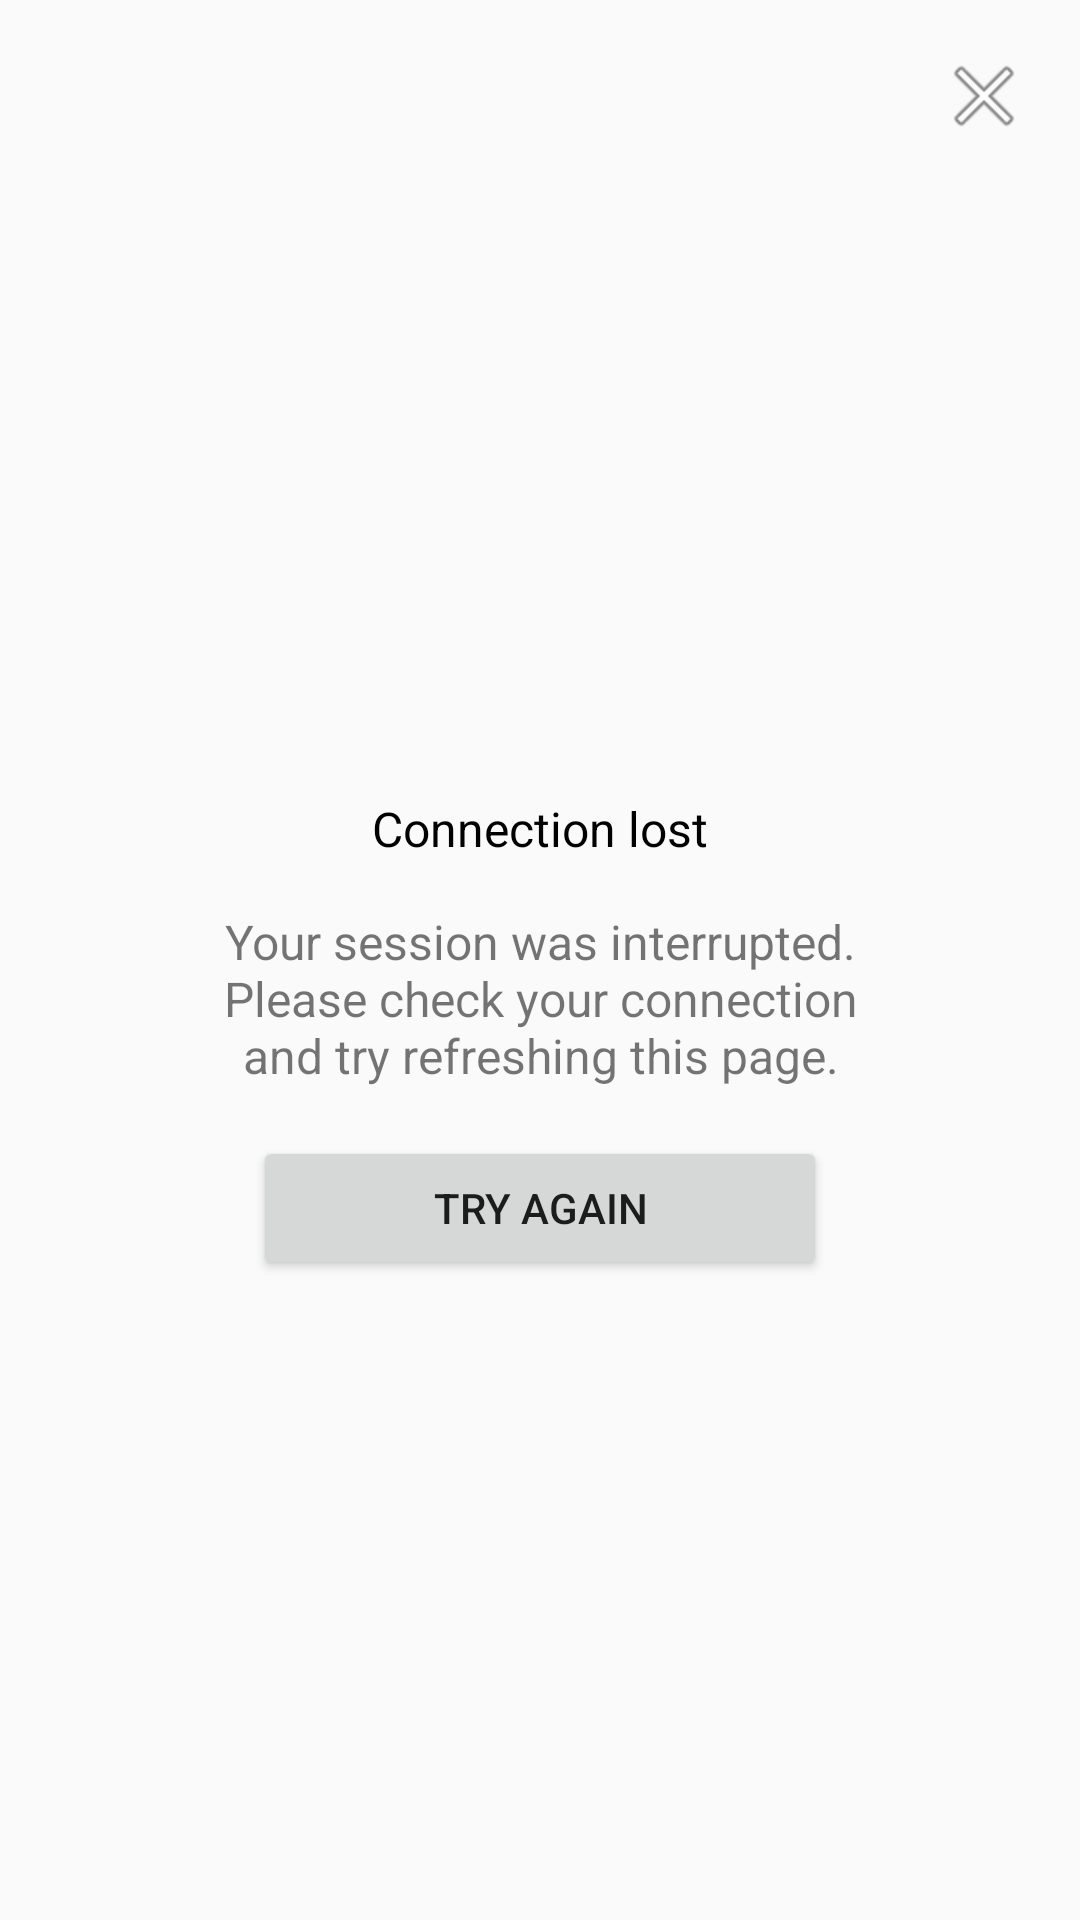

Named icons in this screenshot (1080w x 1920h) and their bounding boxes, box=[x1, y1, x2, y2]:
close clear cancel: box=[954, 66, 1014, 126]
